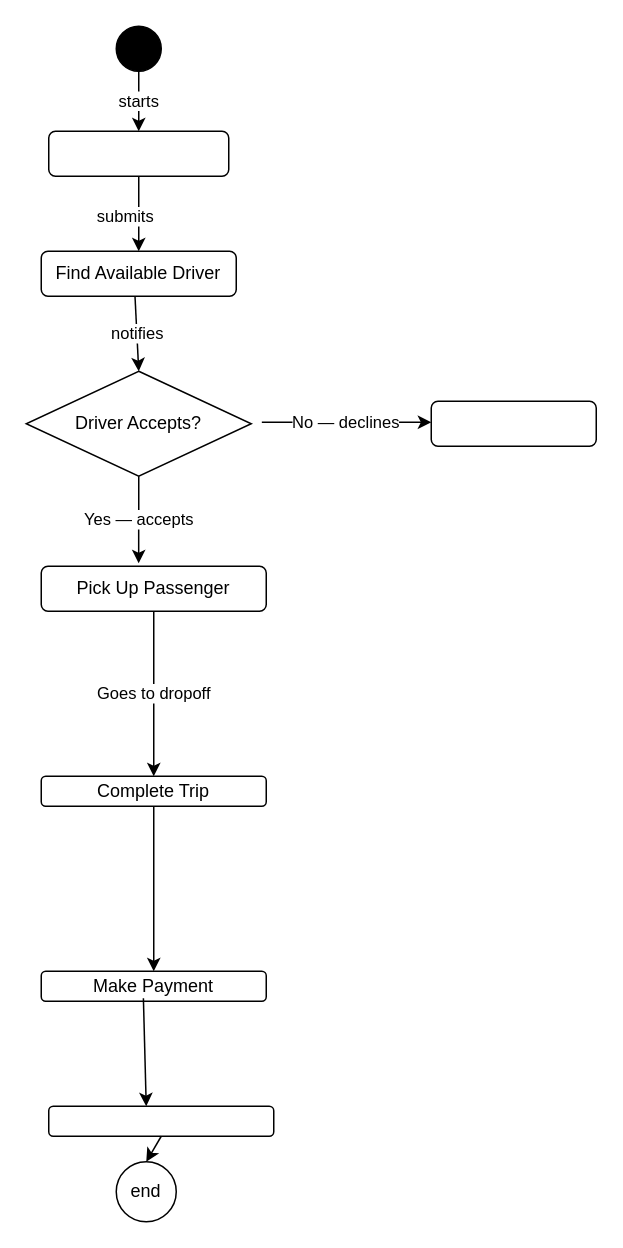
Some shapes in this 623 by 1248 pixel diagram are drawn without their labels. Here are the shapes that lost their labels. From the top down, the centre of each, then its label:
At point 138,153: "Enter Pickup & Dropoff".
At point 513,423: "Cancel Request".
At point 160,1120: "Rate Trip".
